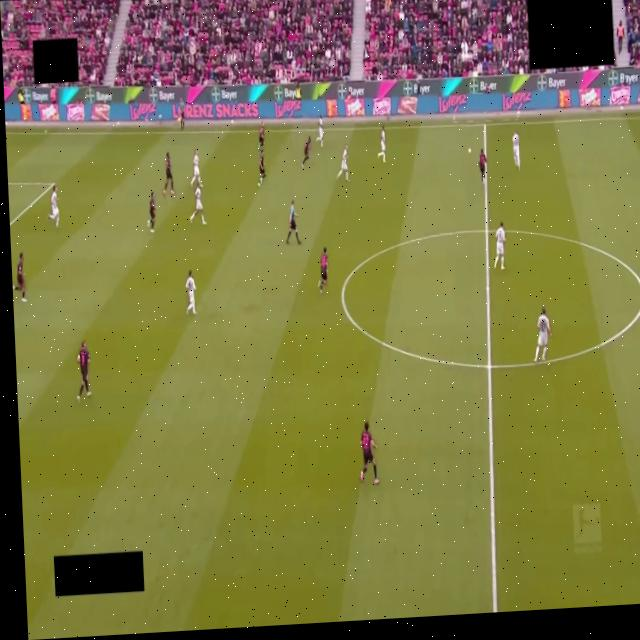ball: (468, 149, 471, 153)
player: (361, 422, 378, 483), (534, 309, 551, 361), (77, 342, 91, 400), (13, 252, 28, 303), (190, 187, 205, 225), (494, 223, 505, 270), (163, 152, 174, 195), (318, 247, 328, 293), (48, 186, 59, 227), (185, 270, 195, 314), (191, 151, 202, 188), (337, 145, 348, 181), (148, 192, 155, 232), (479, 148, 486, 185), (513, 133, 520, 169), (259, 150, 266, 186), (378, 127, 385, 163), (302, 136, 310, 167), (258, 121, 265, 152), (317, 116, 323, 147)
referee: (286, 201, 301, 245)
